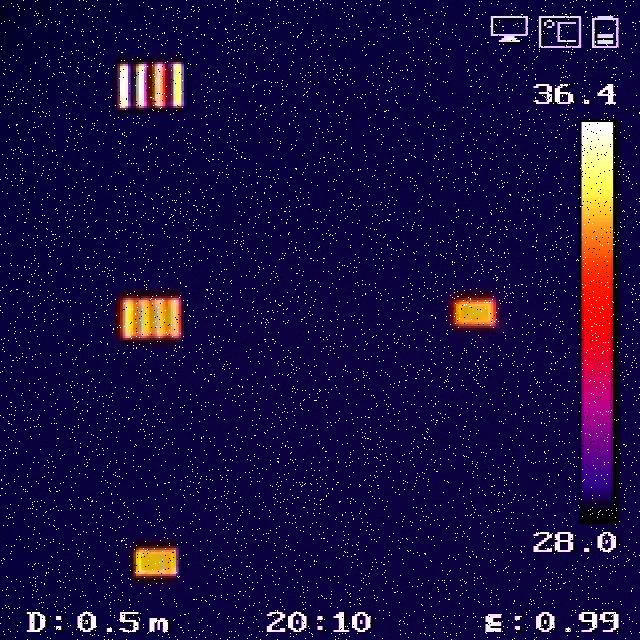Distinguishable 4-bar target: (116, 58, 187, 110)
Indistinguishable 4-bar target: (134, 547, 182, 577), (452, 297, 497, 329)
threshold 4-bar target: (122, 297, 182, 338)
